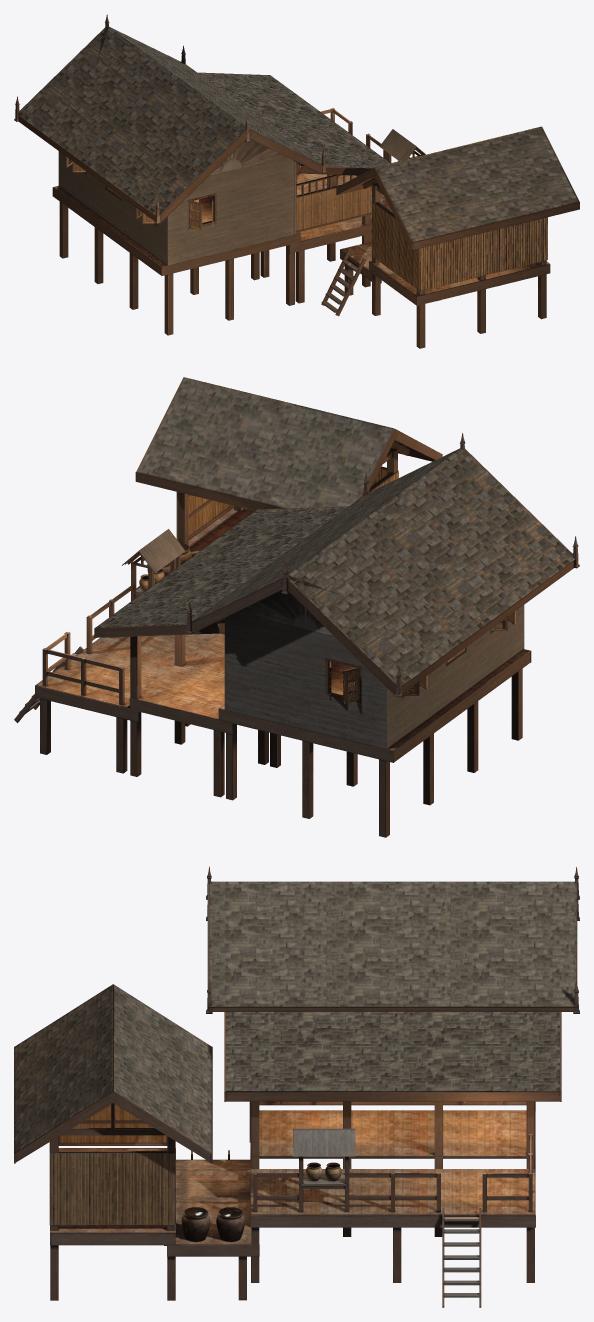
File: isan_thai_house_hernkeay (1).obj
3 views of the same model, one above another, from view 1: azimuth 30°, elevation 25°; view 2: azimuth 150°, elevation 25°; view 3: azimuth 270°, elevation 25° (orthographic). The views are drawn at different scales.
Visible parts, largest first — view 1: Object_4, Object_5; view 2: Object_4, Object_5; view 3: Object_4, Object_5.
Part boxes in pixels (x1,y1,x2,y2): Object_4: (14,14,579,348); Object_5: (18,26,389,312); Object_4: (14,377,579,837); Object_5: (94,448,577,703); Object_4: (14,866,579,1307); Object_5: (207,881,577,1218).
Size of the model in its own units: 8.46 by 4.97 by 9.04.
1 material, 1 textured.
